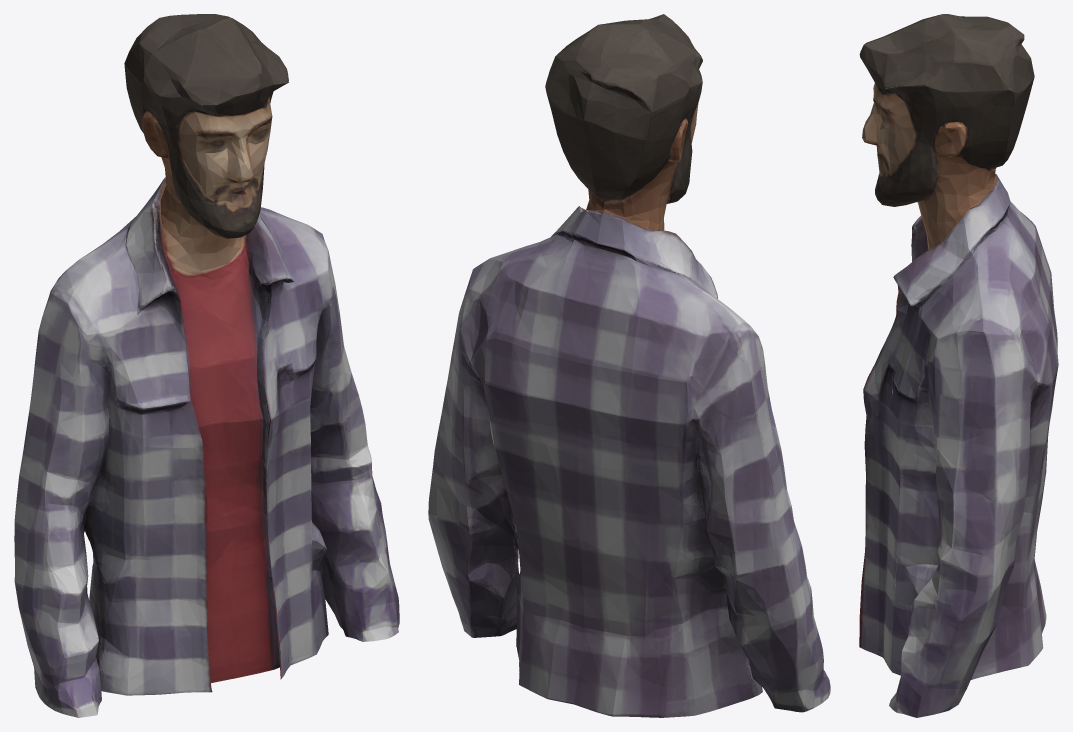
3 views of the same model, side by side, from view 1: azimuth 30°, elevation 25°; view 2: azimuth 150°, elevation 25°; view 3: azimuth 270°, elevation 25° (orthographic). The views are drawn at different scales.
Visible parts, largest first — view 1: geometry_0; view 2: geometry_0; view 3: geometry_0.
Boxes of the visible parts, box(x1,y1,x2,y2) form: geometry_0: box(14, 14, 399, 717); geometry_0: box(428, 14, 830, 717); geometry_0: box(859, 14, 1058, 717).
Bounding box in the file's own units: 0.497 × 0.8284 × 0.2431.
1 material, 1 textured.
